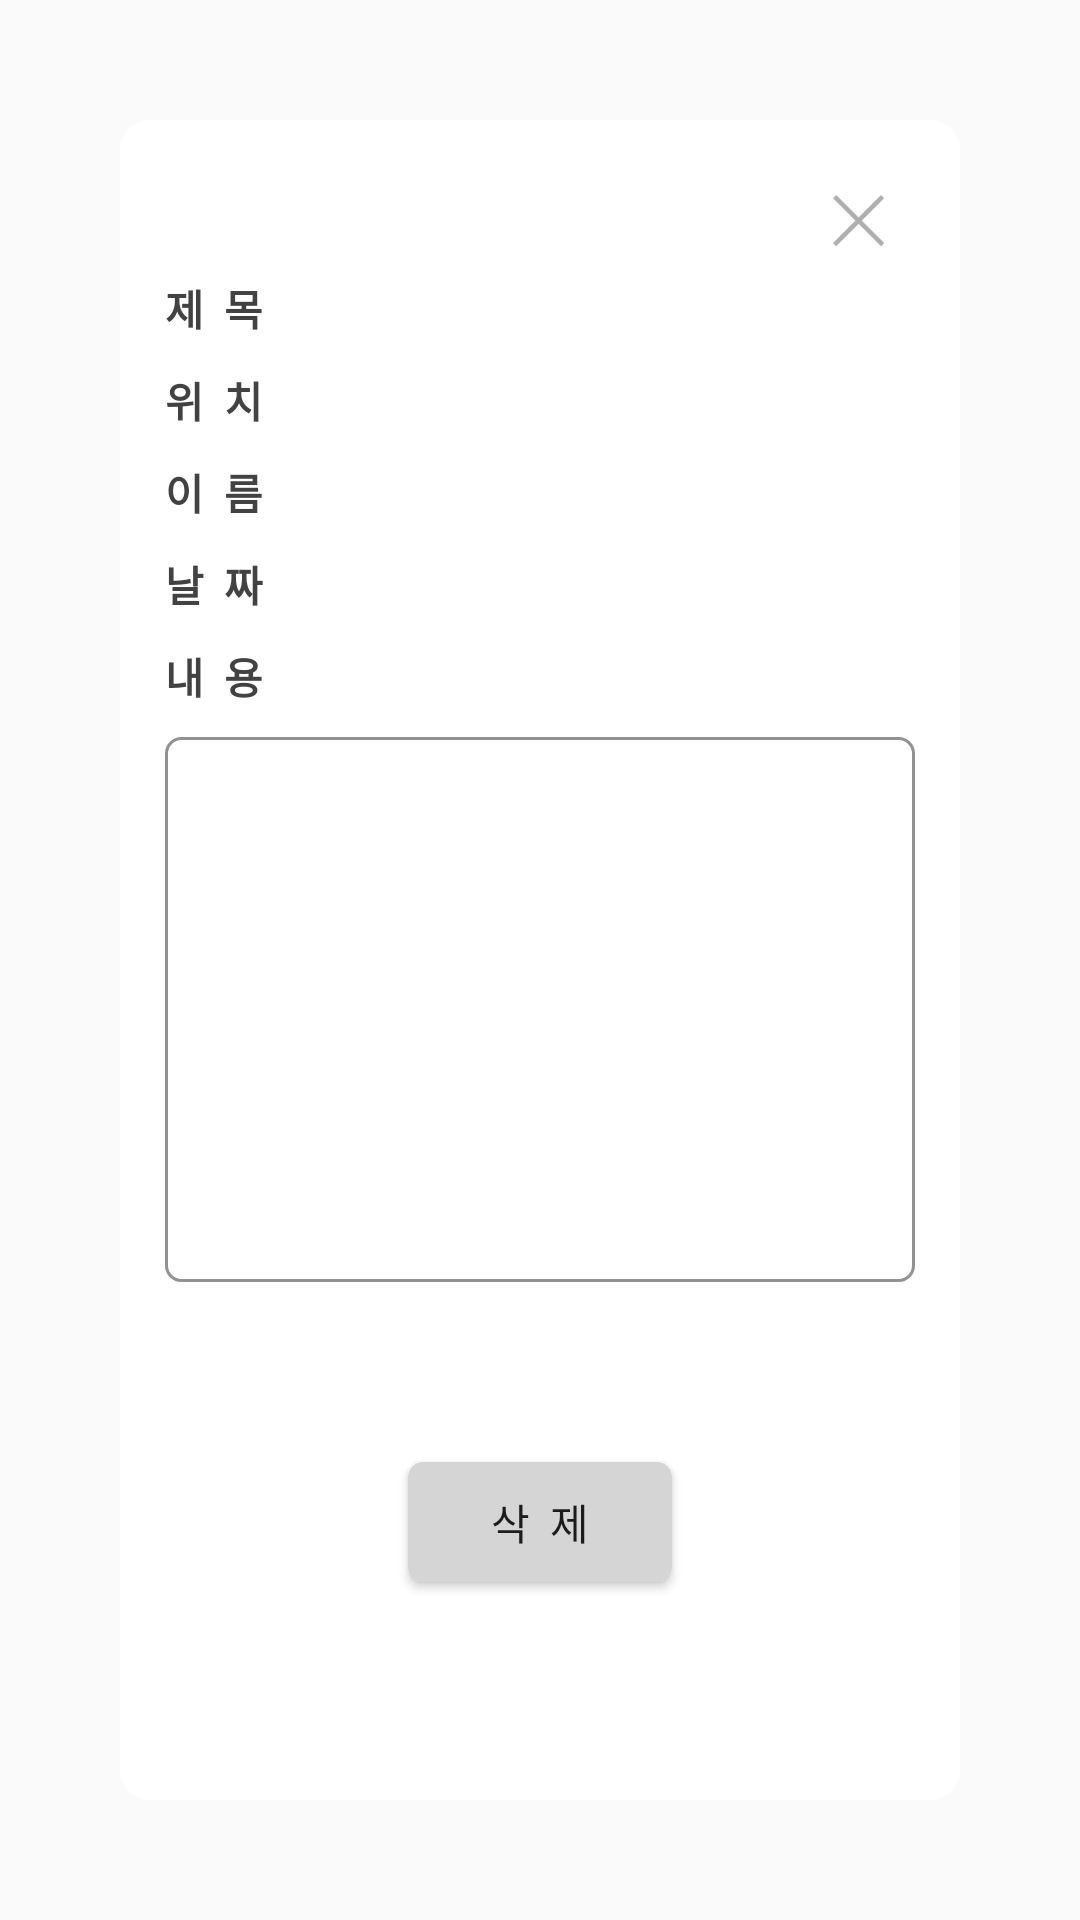

Icons on this 1080 x 1920 Android screen, each with the point to tap as point (x, y):
cancel: point (858, 220)
